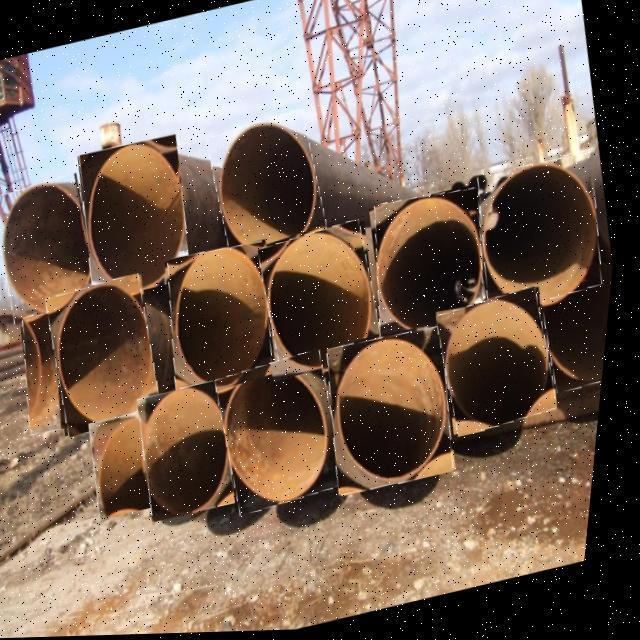pipe: (222, 351, 354, 517), (335, 328, 463, 497), (264, 221, 391, 385), (482, 156, 609, 320), (209, 110, 333, 270), (51, 274, 169, 437), (82, 135, 196, 301), (443, 289, 566, 439), (378, 190, 491, 346), (173, 242, 281, 396), (0, 173, 107, 328), (145, 380, 245, 523), (548, 285, 617, 397), (97, 412, 165, 520), (29, 310, 83, 434)
